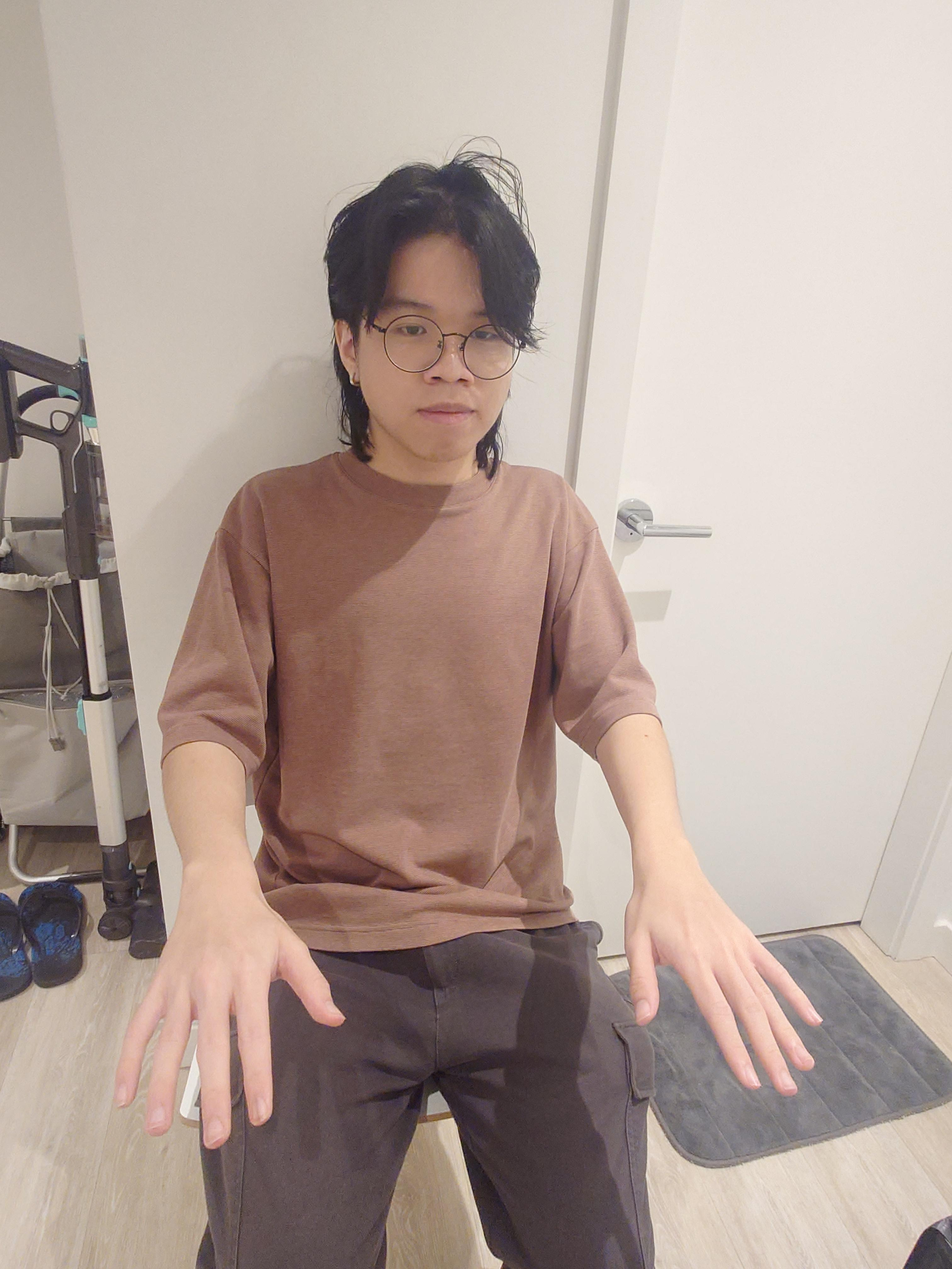GoodPosture: (113, 158, 824, 1269)
